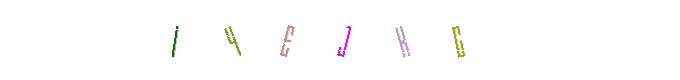4: (286, 0, 366, 80)
E: (300, 0, 380, 80)
G: (317, 0, 397, 80)
I: (134, 0, 214, 80)
J: (304, 0, 384, 80)
K: (308, 0, 388, 80)
